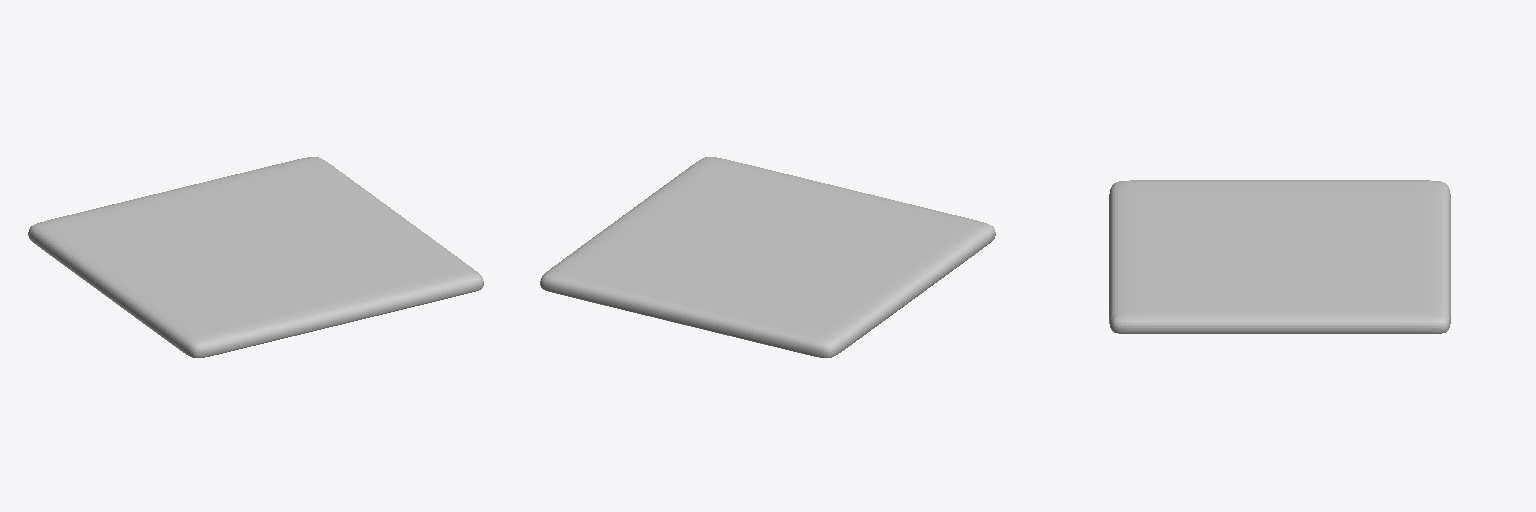
File: button.obj
The picture shows the model from 3 angles: view 1: azimuth 30°, elevation 25°; view 2: azimuth 150°, elevation 25°; view 3: azimuth 270°, elevation 25°; orthographic projection.
Parts seen in each view (by area): view 1: Cube; view 2: Cube; view 3: Cube.
Part boxes in pixels (left/top/right/bottom): Cube: left=28, top=157, right=483, bottom=357; Cube: left=540, top=157, right=995, bottom=357; Cube: left=1109, top=180, right=1450, bottom=333.
Size of the model in its own units: 4.99 by 0.25 by 4.99.